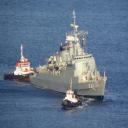Fragata: (29, 8, 111, 103)
